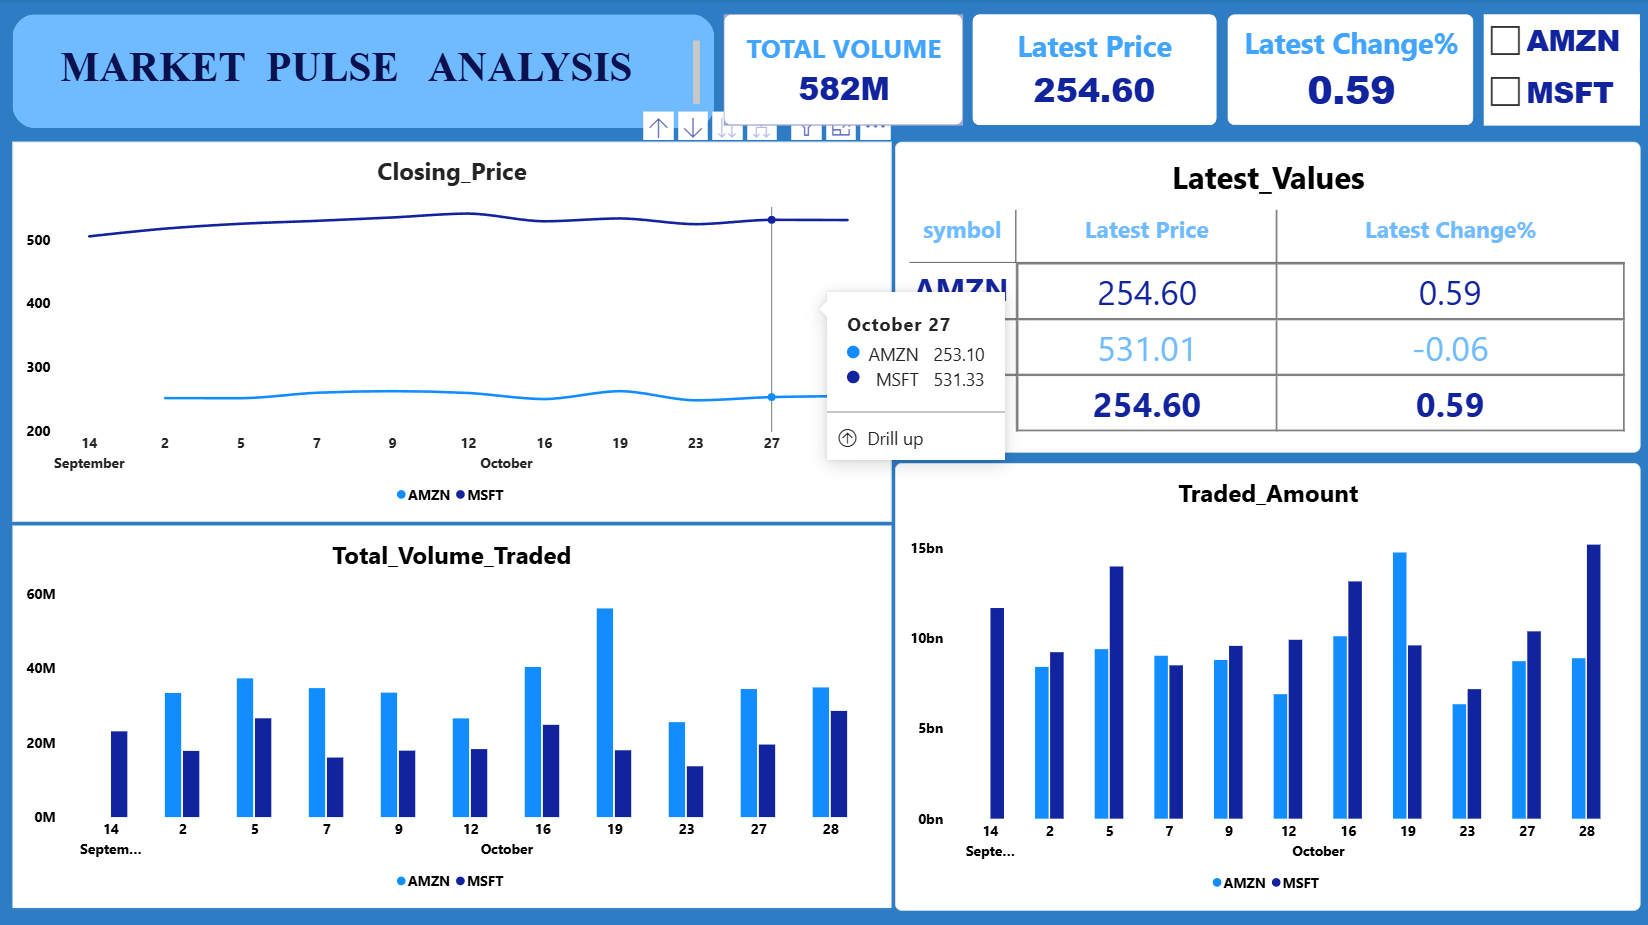

This screenshot's page, from the dashboard's own definition file:
{"tool":"powerbi","page":{"name":"Page 1","canvas":[1920,1080],"ordinal":0},"visuals":[{"type":"shape","box":[13.9,18.5,816.3,132.6],"z":0},{"type":"textbox","box":[35.4,49.3,779.2,75.5],"z":1000},{"type":"clusteredColumnChart","title":"Traded_Amount","fields":{"Category":["public stock_quotes.latest_trading_day.Variation.Date Hierarchy.Month","public stock_quotes.latest_trading_day.Variation.Date Hierarchy.Day"],"Series":["public stock_quotes.symbol"],"Y":["public stock_quotes.traded_amount"]},"box":[1041,540.5,867,520.5],"z":2000},{"type":"slicer","fields":{"Values":["public stock_quotes.symbol"]},"box":[1726.3,18.5,181.7,129.4],"z":3000},{"type":"lineChart","title":"Closing_Price","fields":{"Category":["public stock_quotes.latest_trading_day.Variation.Date Hierarchy.Month","public stock_quotes.latest_trading_day.Variation.Date Hierarchy.Day"],"Series":["public stock_quotes.symbol"],"Y":["Avg(public stock_quotes.price)"]},"box":[13.9,167.9,1022.5,442],"z":4000},{"type":"clusteredColumnChart","title":"Total_Volume_Traded","fields":{"Category":["public stock_quotes.latest_trading_day.Variation.Date Hierarchy.Month","public stock_quotes.latest_trading_day.Variation.Date Hierarchy.Day"],"Series":["public stock_quotes.symbol"],"Y":["Sum(public stock_quotes.volume)"]},"box":[14,614,1022.1,444.8],"z":5000},{"type":"cardVisual","fields":{"Data":["public stock_quotes.Latest Change%"]},"box":[1427.5,18.5,286.4,129.4],"z":6000},{"type":"cardVisual","fields":{"Data":["public stock_quotes.Latest Price"]},"box":[1131.9,18.5,284.9,129.4],"z":7000},{"type":"cardVisual","fields":{"Data":["Sum(public stock_quotes.volume)"]},"box":[842.4,18.5,278.7,129.4],"z":8000},{"type":"pivotTable","title":"Latest_Values","fields":{"Rows":["public stock_quotes.symbol"],"Values":["public stock_quotes.Latest Price","public stock_quotes.Latest Change%"]},"box":[1041,167.9,867,361.9],"z":9001}]}

Visuals, with their boxes on the page's 1920x1080 design canvas (x1, y1, x2, y2). These are canvas units, not pixel positions in the 1648x925 screenshot, which may show the page scaled, cropped or inside an application window:
shape: x1=14, y1=18, x2=830, y2=151
textbox: x1=35, y1=49, x2=815, y2=125
"Traded_Amount" clusteredColumnChart: x1=1041, y1=540, x2=1908, y2=1061
slicer - public stock_quotes.symbol: x1=1726, y1=18, x2=1908, y2=148
"Closing_Price" lineChart: x1=14, y1=168, x2=1036, y2=610
"Total_Volume_Traded" clusteredColumnChart: x1=14, y1=614, x2=1036, y2=1059
cardVisual - public stock_quotes.Latest Change%: x1=1428, y1=18, x2=1714, y2=148
cardVisual - public stock_quotes.Latest Price: x1=1132, y1=18, x2=1417, y2=148
cardVisual - Sum(public stock_quotes.volume): x1=842, y1=18, x2=1121, y2=148
"Latest_Values" pivotTable: x1=1041, y1=168, x2=1908, y2=530
